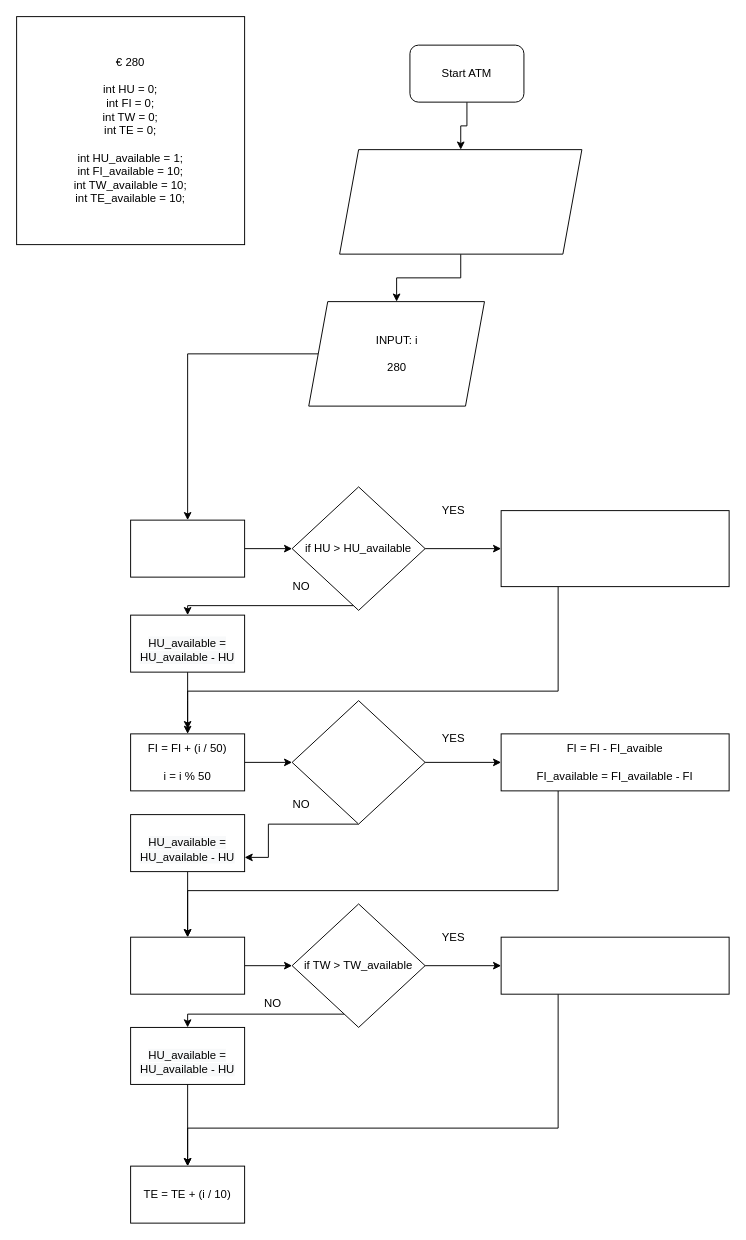
Some shapes in this 746 by 1240 pixel diagram are drawn without their labels. Here are the shapes that lost their labels. From the top down, the box of each, then its label:
(339, 149, 582, 254): OUTPUT: What amount of money would you like to withdraw?
(130, 519, 245, 577): HU = i / 100 i = i % 100
(500, 510, 729, 587): FI = (HU - HU_avaible) * 2 HU = HU_availabe
(291, 700, 425, 824): if FI > FI_available
(130, 936, 245, 994): TW = TW + (i / 20) i = i % 20
(500, 936, 729, 994): TE = TE - TE_avaible TE_available = TE_available - TE
